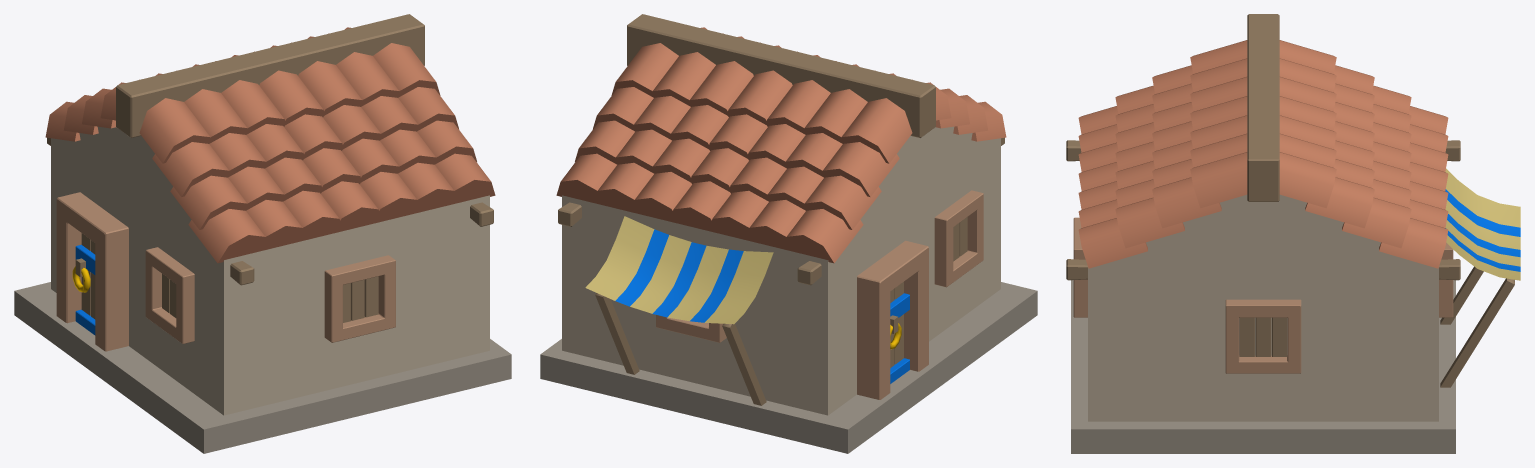
Rendered from mesh_house_01.fbx.
3 views of the same model, side by side, from view 1: azimuth 30°, elevation 25°; view 2: azimuth 150°, elevation 25°; view 3: azimuth 270°, elevation 25° (orthographic).
Parts seen in each view (by area): view 1: mesh_house_01; view 2: mesh_house_01; view 3: mesh_house_01.
Boxes of the visible parts, bbox=[...] form: mesh_house_01: bbox=[14, 14, 511, 453]; mesh_house_01: bbox=[540, 14, 1037, 453]; mesh_house_01: bbox=[1066, 14, 1520, 453].
Bounding box in the file's own units: 0.0667 × 0.0599 × 0.0836.
